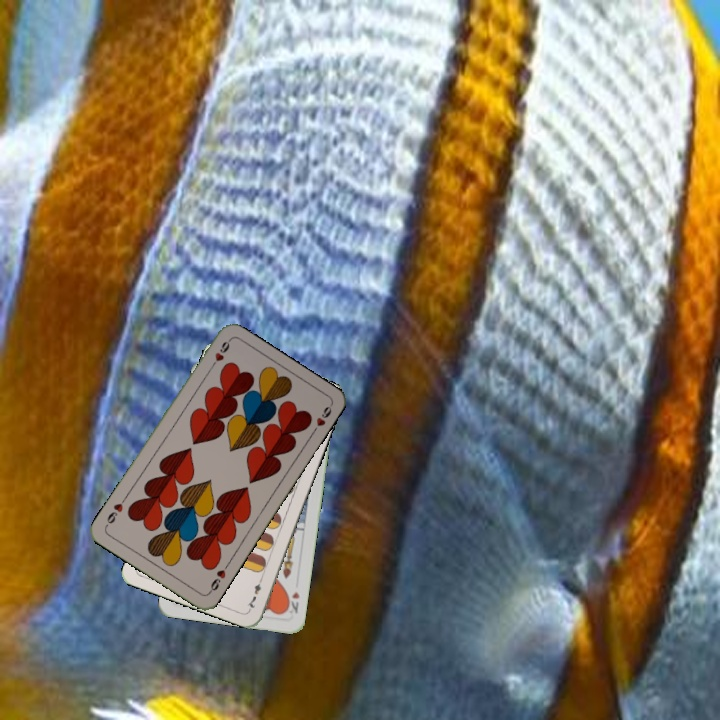E7: (243, 573, 265, 612)
H9: (205, 336, 233, 372), (204, 560, 231, 596)
HK: (282, 587, 302, 618)
